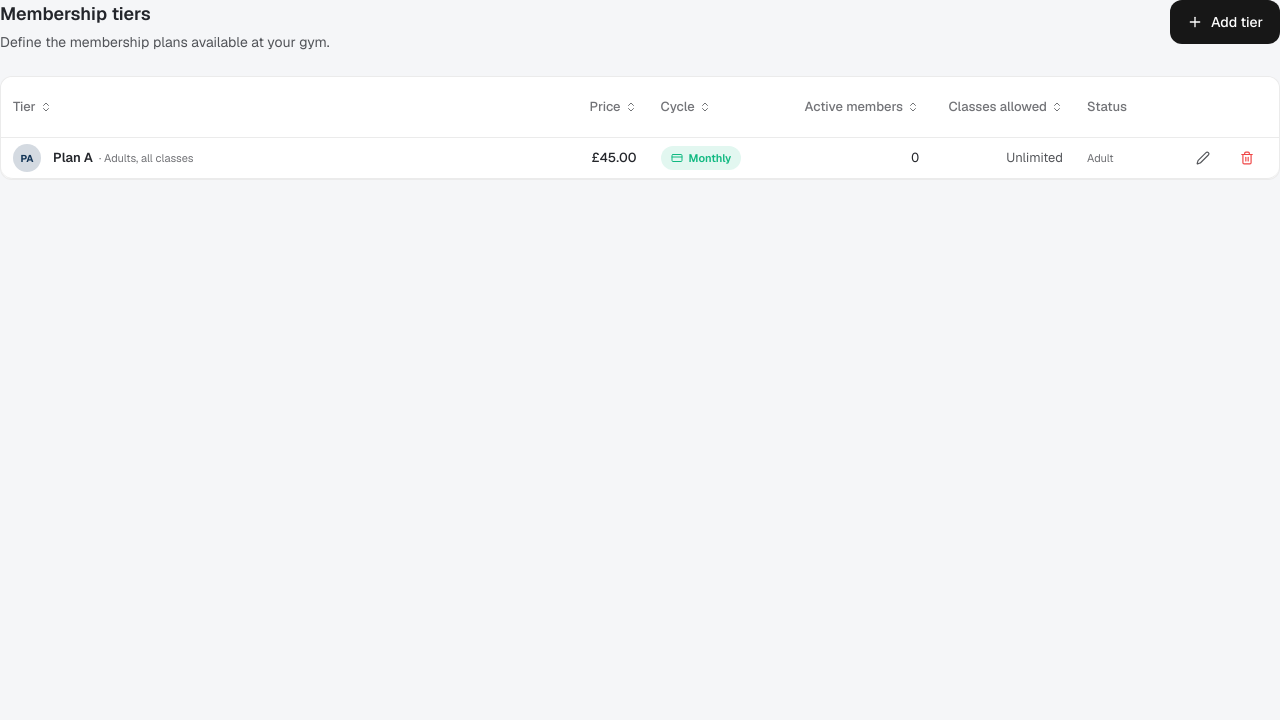
Scenario: Description in the tier editor › clearing an existing description sends null (key present) and the row loses it
expect the text "· Adults, all classes" is shown: met, box [99,151,193,165]
Click the button named "Edit Plan A" at point(1203, 158), box [1183,142,1223,174]
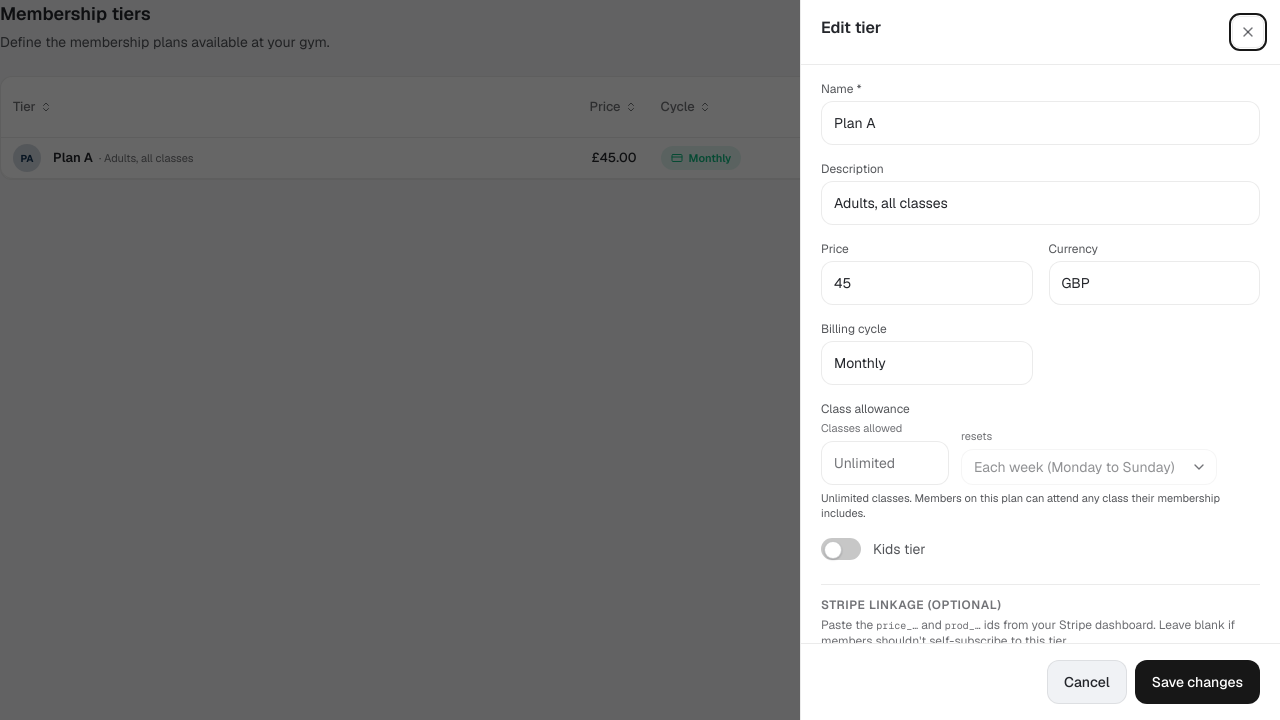
Clear the field labelled "Description" at point(1040, 203), box [821,181,1260,225]
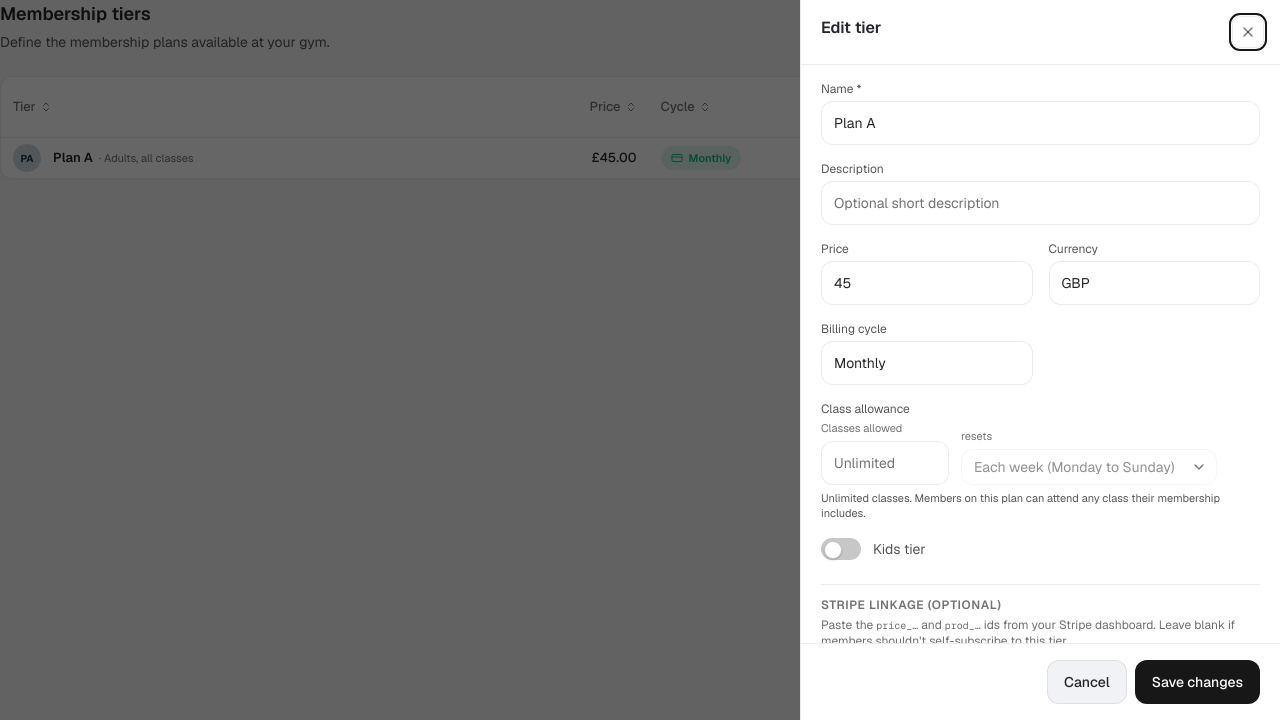
Click the button "Save changes" at point(1197, 682), box [1135,660,1260,704]
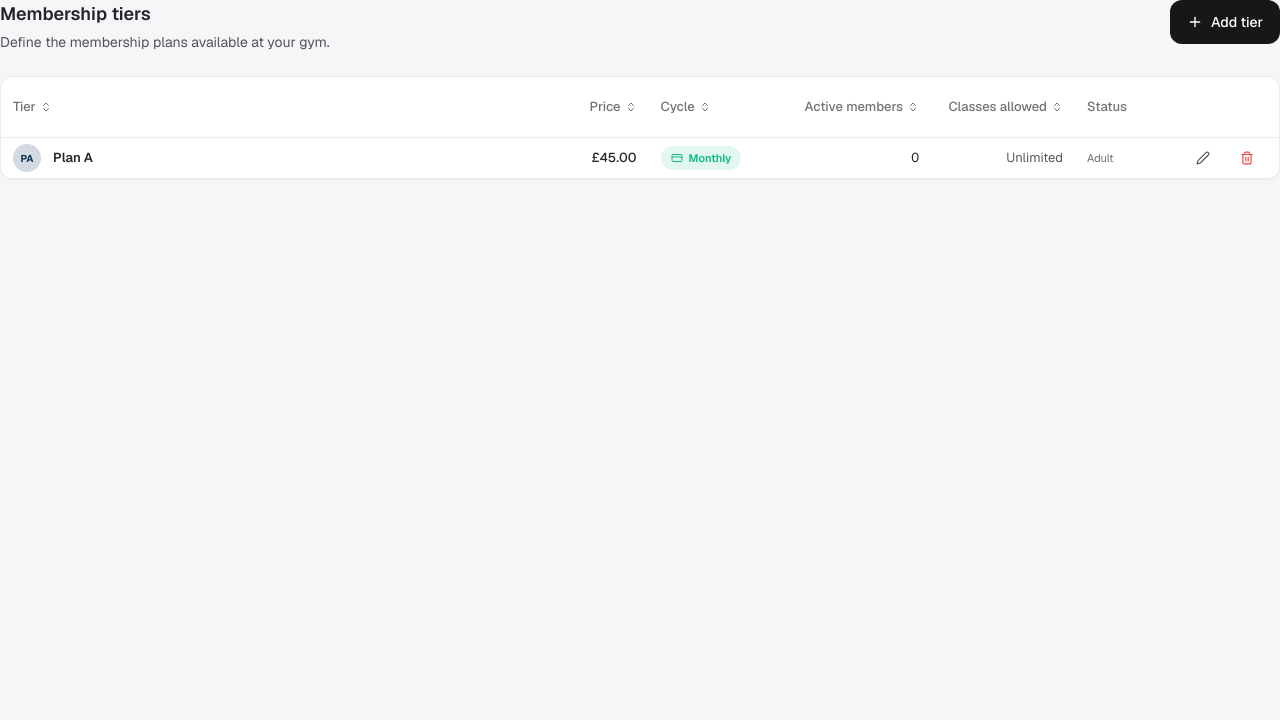
expect the text "· Adults, all classes" is gone: met
